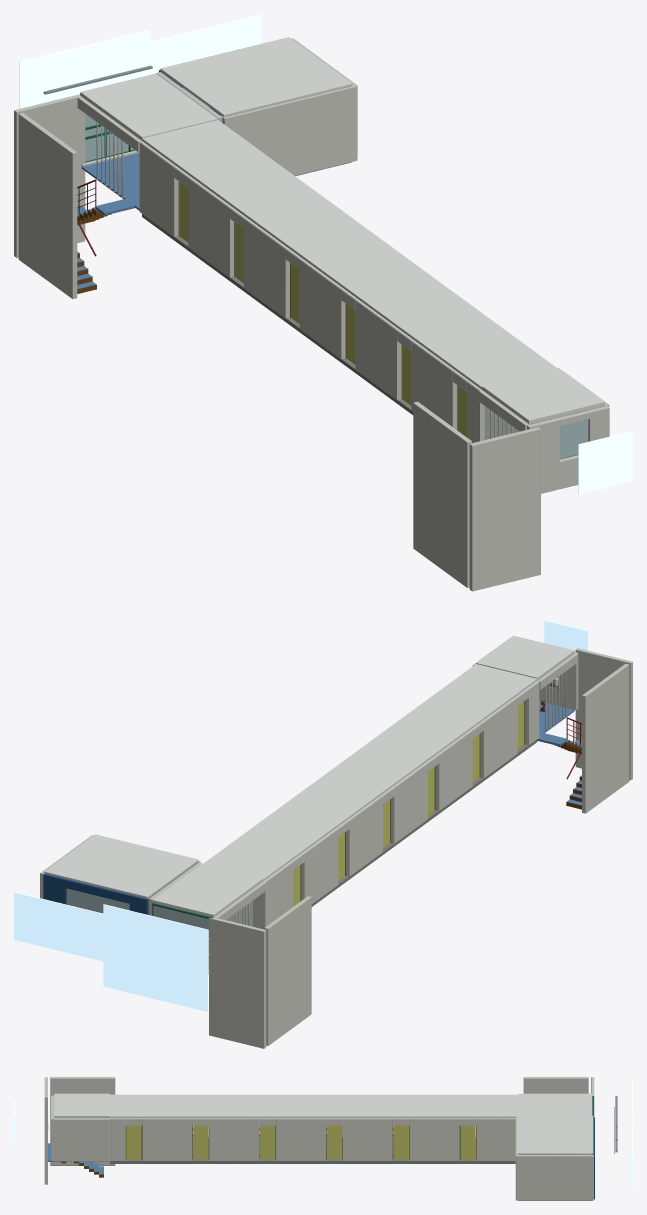
Rendered from DormitoryFloor.fbx.
The picture shows the model from 3 angles, top to bottom: view 1: azimuth 30°, elevation 25°; view 2: azimuth 150°, elevation 25°; view 3: azimuth 270°, elevation 25°; orthographic projection. The views are drawn at different scales.
Parts seen in each view (by area): view 1: Ceiling_Back, Wall_StairEnd_Near, Wall_StairOuter_Far, Wall_StairOuter_Near, Ceiling_Study, Wall_Study_Near, Window_FullHeight_Exterior_Backdrop, Landing_Ceiling.001, Window_Study_Exterior_Backdrop, Landing_Ceiling, Wall_StairEnd_Far, Wall_Perimeter.003 (+13 smaller); view 2: Ceiling_Back, Window_FullHeight_Exterior_Backdrop, Wall_StairEnd_Far, Wall_StairOuter_Near, Wall_StairOuter_Far, Ceiling_Study, Window_Study_Exterior_Backdrop, Landing_Ceiling.001, Landing_Ceiling, Wall_StairEnd_Near, Wall_Perimeter.002, Wall_Perimeter.001 (+11 smaller); view 3: Ceiling_Back, Wall_Study_Outer, Ceiling_Study, Wall_LobbySide, Wall_Perimeter.009, Wall_Perimeter.008, Wall_Perimeter.012, Wall_Perimeter.010, Wall_Perimeter.011, Landing_Ceiling.001, Wall_Perimeter.013, Landing_Ceiling (+12 smaller).
Part boxes in pixels (x1,y1,x2,y2): Ceiling_Back: (142, 120, 556, 389); Wall_StairEnd_Near: (469, 427, 540, 591); Wall_StairOuter_Far: (18, 113, 77, 298); Wall_StairOuter_Near: (413, 401, 471, 587); Ceiling_Study: (160, 37, 352, 117); Wall_Study_Near: (222, 85, 356, 175); Window_FullHeight_Exterior_Backdrop: (19, 29, 150, 108); Landing_Ceiling.001: (80, 73, 218, 140); Window_Study_Exterior_Backdrop: (116, 14, 261, 82); Landing_Ceiling: (482, 368, 604, 424); Wall_StairEnd_Far: (14, 94, 85, 257); Wall_Perimeter.003: (299, 259, 345, 359); Ceiling_Back: (203, 664, 537, 881); Window_FullHeight_Exterior_Backdrop: (103, 904, 208, 1011); Wall_StairEnd_Far: (209, 918, 266, 1048); Wall_StairOuter_Near: (582, 663, 629, 813); Wall_StairOuter_Far: (264, 896, 311, 1045); Ceiling_Study: (44, 834, 198, 898); Window_Study_Exterior_Backdrop: (14, 892, 129, 966); Landing_Ceiling.001: (152, 863, 263, 917); Landing_Ceiling: (476, 635, 574, 680); Wall_StairEnd_Near: (575, 648, 632, 780); Wall_Perimeter.002: (435, 730, 472, 810); Wall_Perimeter.001: (480, 698, 517, 777); Ceiling_Back: (110, 1094, 518, 1118); Wall_Study_Outer: (516, 1155, 593, 1200); Ceiling_Study: (517, 1115, 593, 1154); Wall_LobbySide: (54, 1118, 109, 1161); Wall_Perimeter.009: (209, 1118, 259, 1160); Wall_Perimeter.008: (142, 1119, 192, 1160); Wall_Perimeter.012: (409, 1119, 459, 1160); Wall_Perimeter.010: (276, 1118, 325, 1160); Wall_Perimeter.011: (343, 1118, 392, 1160); Landing_Ceiling.001: (518, 1093, 592, 1115); Wall_Perimeter.013: (476, 1119, 515, 1160); Landing_Ceiling: (54, 1093, 109, 1118).
Bounding box in the file's own units: 10.42 × 5.97 × 33.35.
